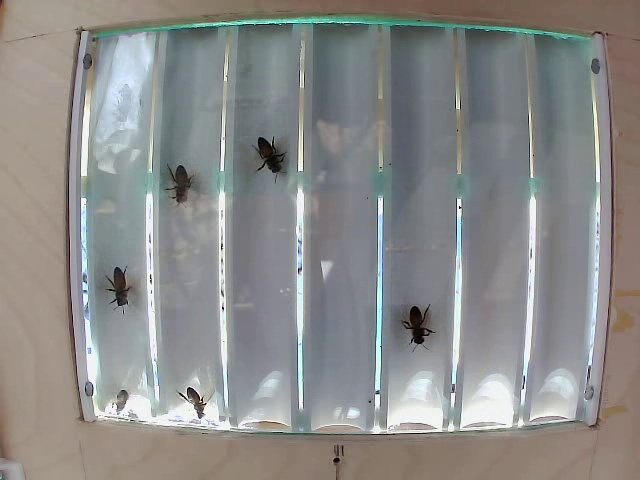bee: (248, 119, 291, 198), (155, 153, 199, 217), (87, 250, 128, 317), (394, 290, 436, 354)
